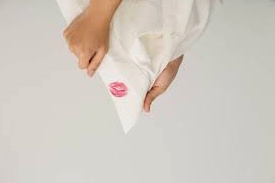lipstick: (109, 82, 132, 99)
